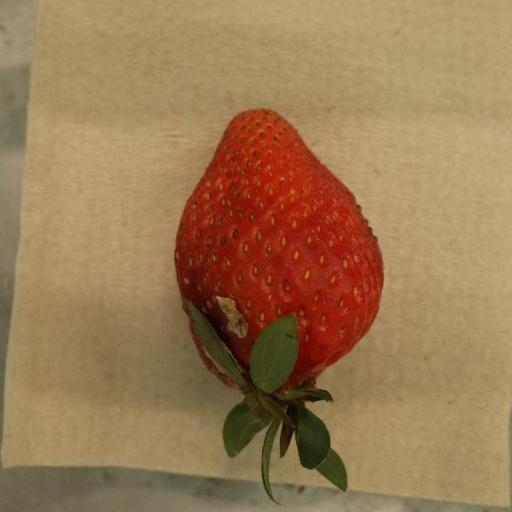Strawberry: (174, 109, 384, 497)
